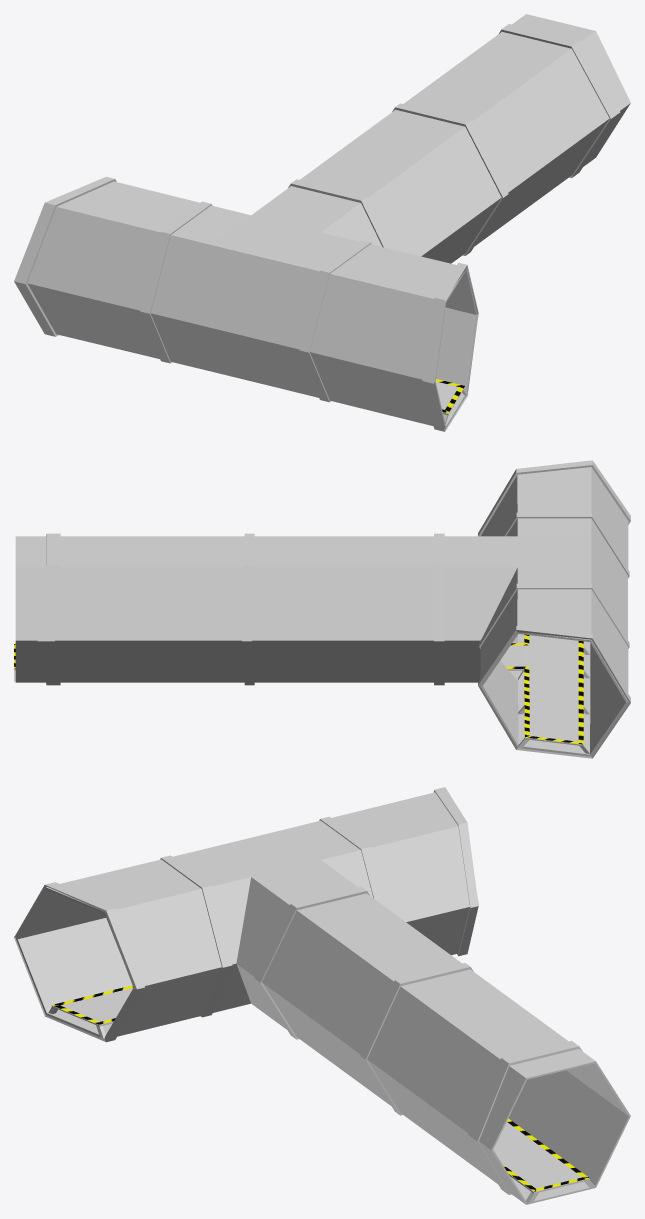
The model's file is Single_Gang.fbx.
The picture shows the model from 3 angles, top to bottom: view 1: azimuth 30°, elevation 25°; view 2: azimuth 150°, elevation 25°; view 3: azimuth 270°, elevation 25°; orthographic projection. The views are drawn at different scales.
Parts seen in each view (by area): view 1: Floor_01, Gang_Ringe; view 2: Floor_01, Gang_Ringe, Gang_Glas, Gang_Safty, Gang_Halterung; view 3: Floor_01, Gang_Ringe, Gang_Glas, Gang_Safty.
Part boxes in pixels (x1,y1,x2,y2): Floor_01: (27, 14, 630, 429); Gang_Ringe: (14, 24, 620, 431); Floor_01: (15, 467, 628, 756); Gang_Ringe: (37, 460, 630, 758); Gang_Glas: (14, 635, 583, 745); Gang_Safty: (14, 634, 583, 744); Gang_Halterung: (14, 645, 590, 753); Floor_01: (16, 792, 630, 1204); Gang_Ringe: (14, 787, 582, 1194); Gang_Glas: (51, 988, 589, 1192); Gang_Safty: (52, 985, 589, 1191).
Size of the model in its own units: 1682 by 328 by 1392.
